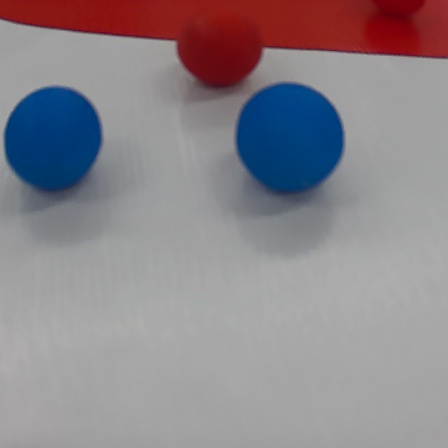blue: (231, 79, 353, 201), (3, 82, 103, 196)
red: (178, 7, 269, 87)
red_base: (0, 0, 448, 59)
